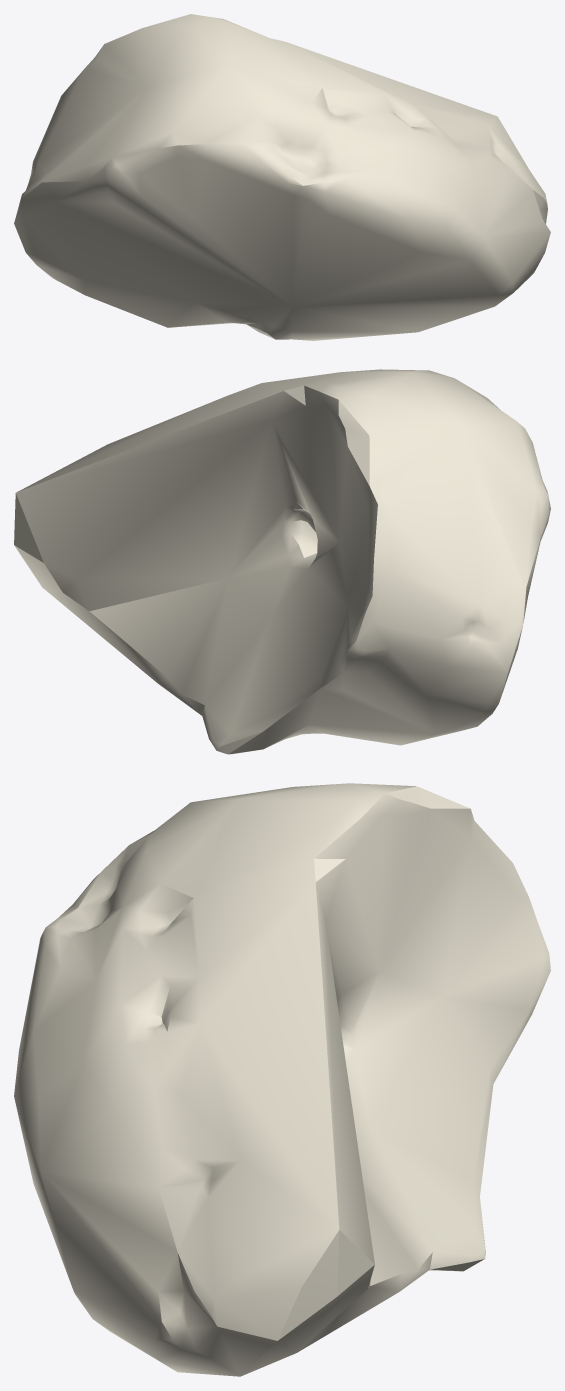
Rendered from fma24500_fj6410.glb.
3 views of the same model, one above another, from view 1: azimuth 30°, elevation 25°; view 2: azimuth 150°, elevation 25°; view 3: azimuth 270°, elevation 25° (orthographic). The views are drawn at different scales.
Visible parts, largest first — view 1: FMA24500_FJ6410; view 2: FMA24500_FJ6410; view 3: FMA24500_FJ6410.
Boxes of the visible parts, bbox=[...] form: FMA24500_FJ6410: bbox=[14, 14, 550, 340]; FMA24500_FJ6410: bbox=[14, 369, 550, 754]; FMA24500_FJ6410: bbox=[14, 783, 550, 1376].
Bounding box in the file's own units: 0.0386 × 0.0245 × 0.0267.
